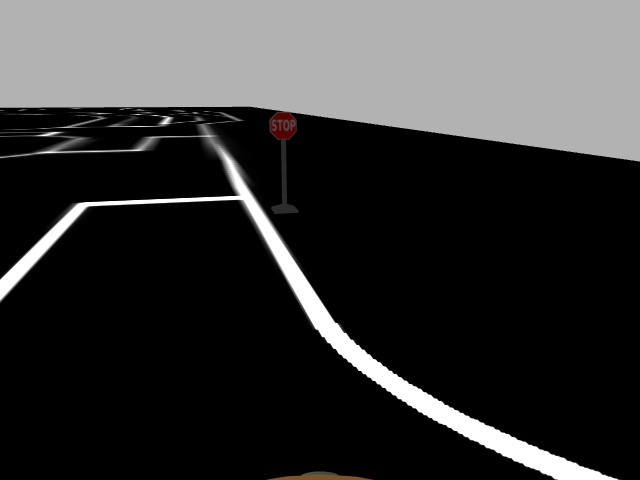stop: (266, 109, 300, 143)
